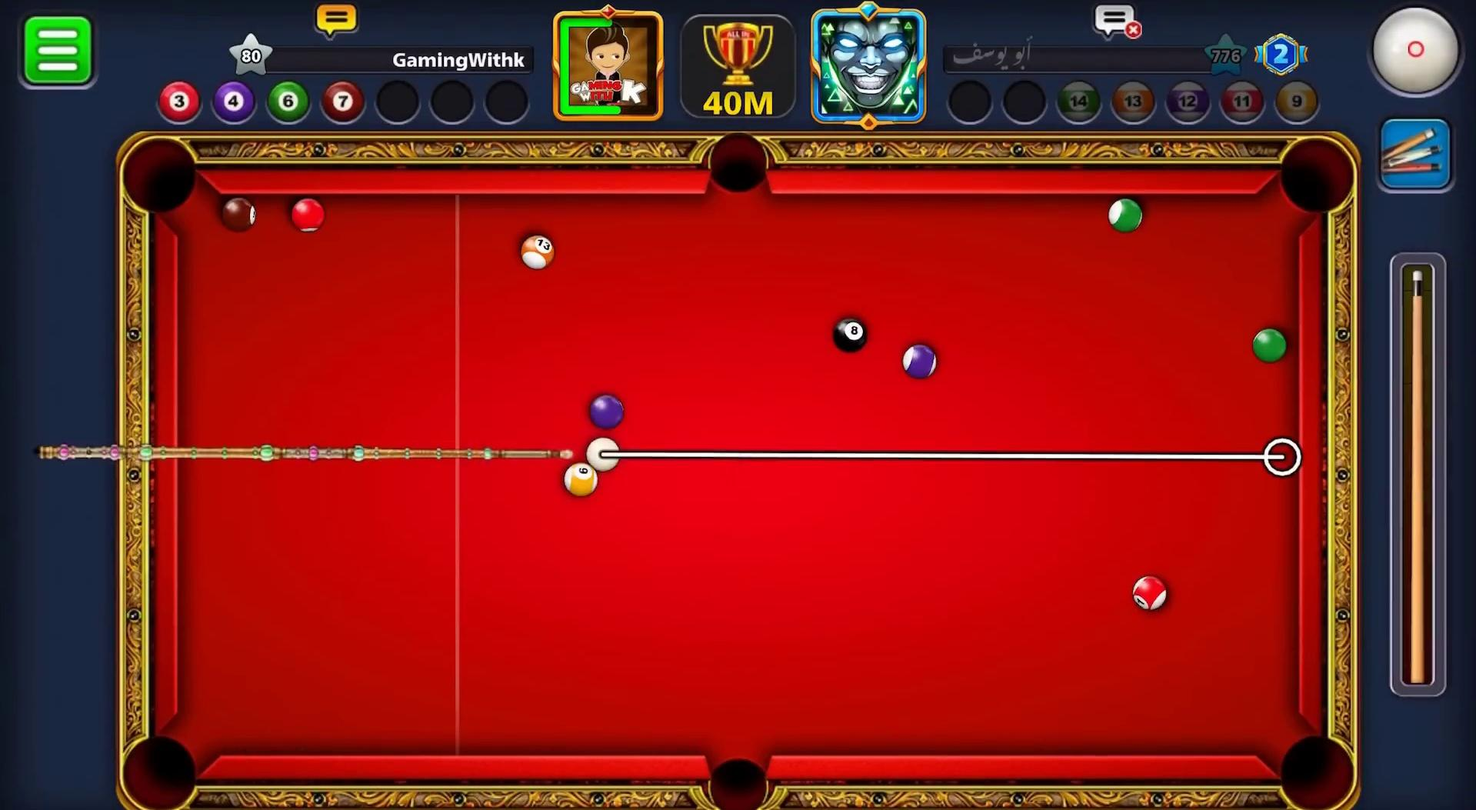Ball: (1098, 192, 1149, 233), (1127, 571, 1169, 619), (221, 198, 259, 241), (832, 310, 868, 351), (589, 390, 626, 428), (1252, 330, 1289, 368), (902, 341, 939, 378), (521, 231, 557, 268), (562, 464, 597, 500), (293, 195, 328, 231)
Force: (1384, 249, 1444, 695)
Guideline: (627, 446, 1263, 468), (1261, 436, 1305, 479)
Hole: (1272, 132, 1356, 220), (1275, 731, 1352, 810), (124, 135, 202, 212), (126, 730, 202, 805), (702, 748, 771, 810), (708, 131, 768, 191)
Play_Area: (181, 192, 1293, 753)
Spin: (1360, 4, 1462, 99)
White: (587, 434, 625, 474)
